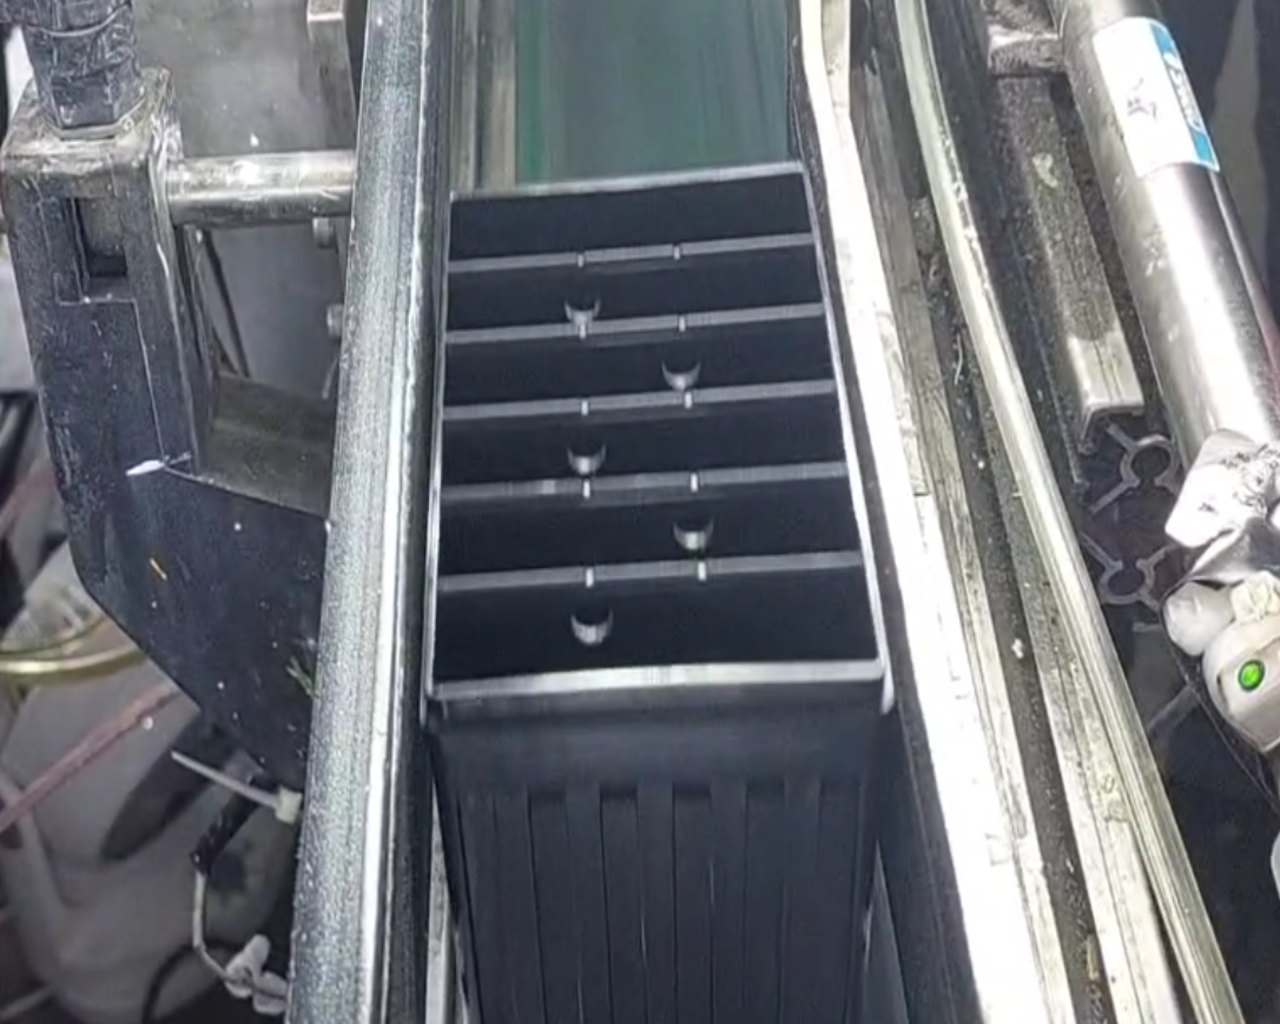box: (400, 147, 906, 757)
round: (653, 494, 729, 555), (557, 589, 628, 651), (549, 418, 618, 478), (647, 334, 709, 399), (550, 275, 610, 329)
